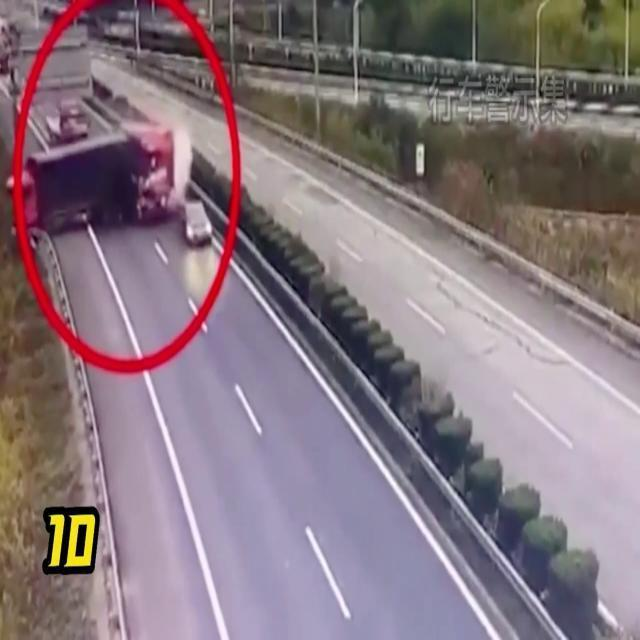accident: (29, 124, 177, 233)
